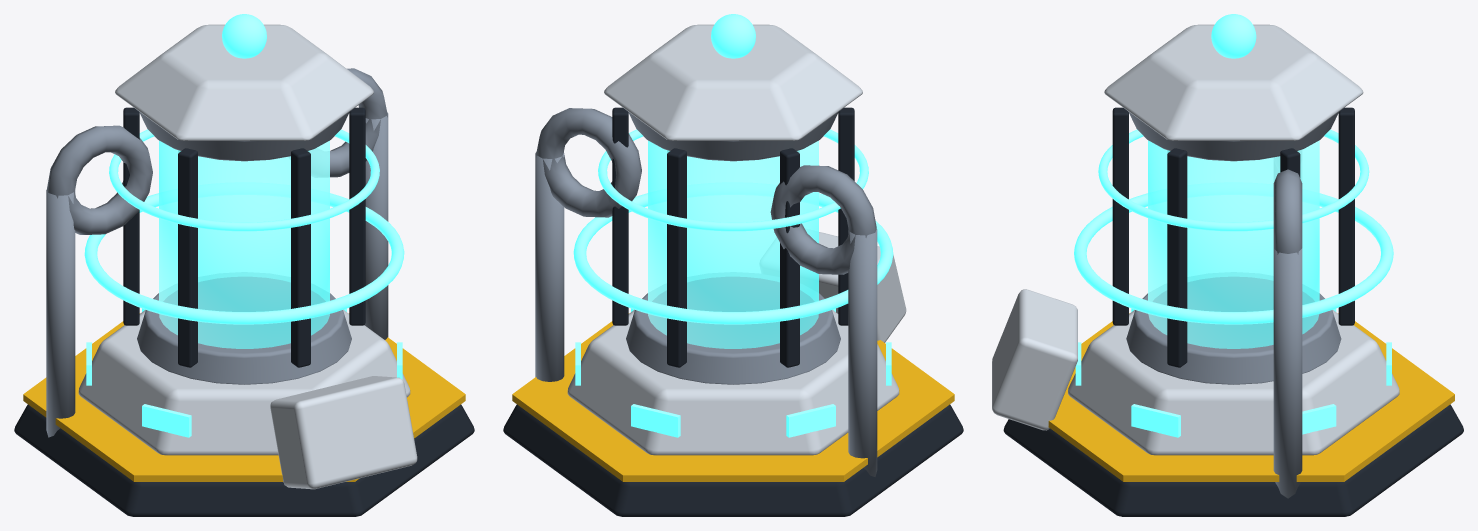
File: converter.glb
3 renders of one model, left to right at view 1: azimuth 30°, elevation 25°; view 2: azimuth 150°, elevation 25°; view 3: azimuth 270°, elevation 25°, orthographic.
Visible parts, largest first — view 1: Converter, Core, Ring, Ring2; view 2: Converter, Core, Ring, Ring2; view 3: Converter, Core, Ring, Ring2.
Part boxes in pixels (x1,y1,x2,y2): Converter: [14, 14, 474, 516]; Core: [159, 140, 329, 348]; Ring: [84, 193, 404, 324]; Ring2: [109, 129, 379, 231]; Converter: [503, 14, 963, 516]; Core: [648, 140, 818, 348]; Ring: [573, 193, 893, 324]; Ring2: [598, 129, 868, 231]; Converter: [992, 14, 1463, 516]; Core: [1148, 140, 1319, 348]; Ring: [1074, 193, 1393, 324]; Ring2: [1098, 129, 1369, 231].
Size of the model in its own units: 4.45 by 5.1 by 5.22.
